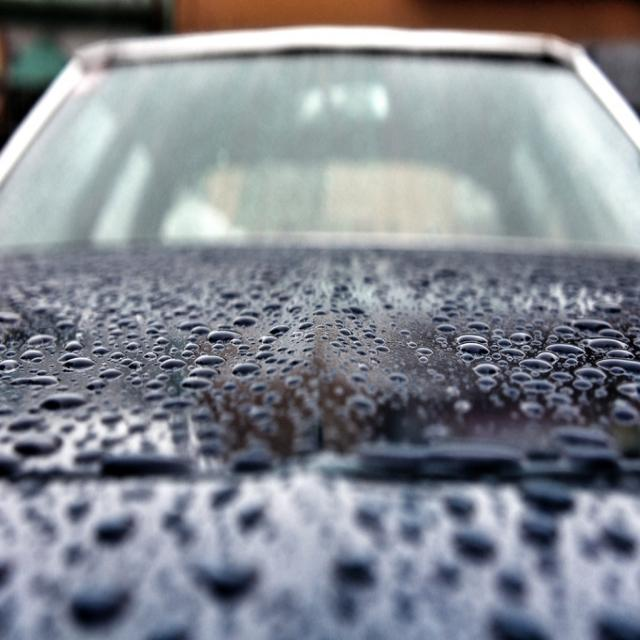other: (0, 20, 639, 638)
